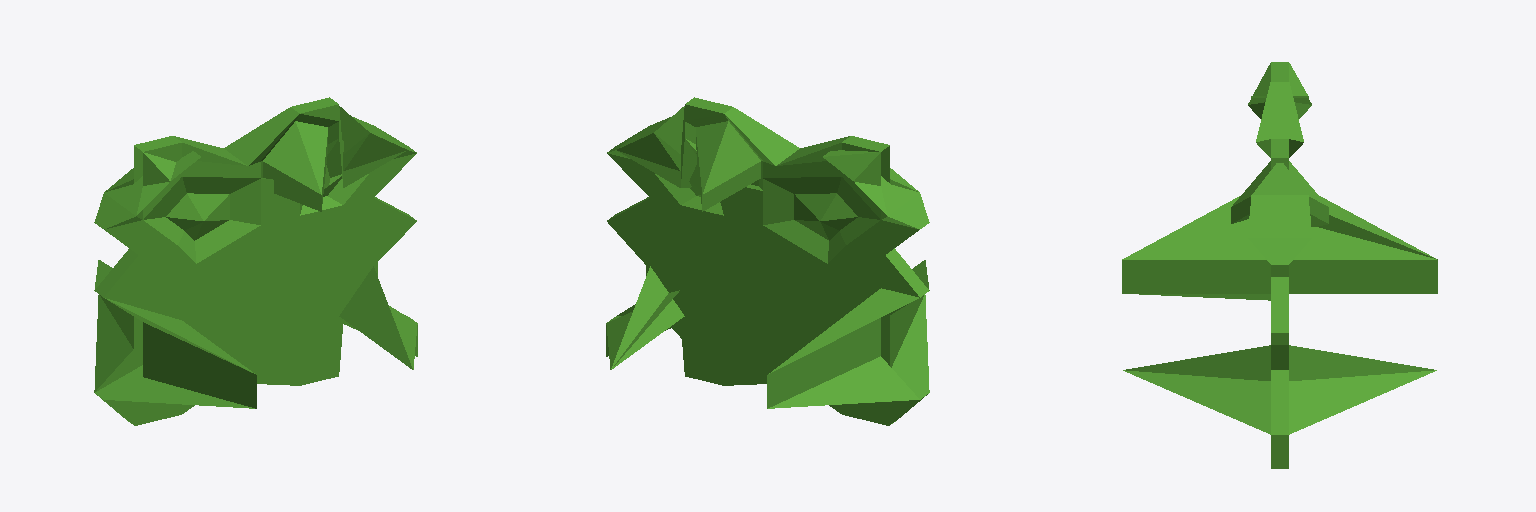
3 renders of one model, left to right at view 1: azimuth 30°, elevation 25°; view 2: azimuth 150°, elevation 25°; view 3: azimuth 270°, elevation 25°, orthographic.
Visible parts, largest first — view 1: 立方体; view 2: 立方体; view 3: 立方体.
Part boxes in pixels (bbox=[...]): 立方体: bbox=[94, 97, 417, 425]; 立方体: bbox=[606, 97, 929, 425]; 立方体: bbox=[1122, 62, 1437, 468].
Size of the model in its own units: 19.62 by 16.26 by 17.12.
Materials: 1 (1 with a texture image).